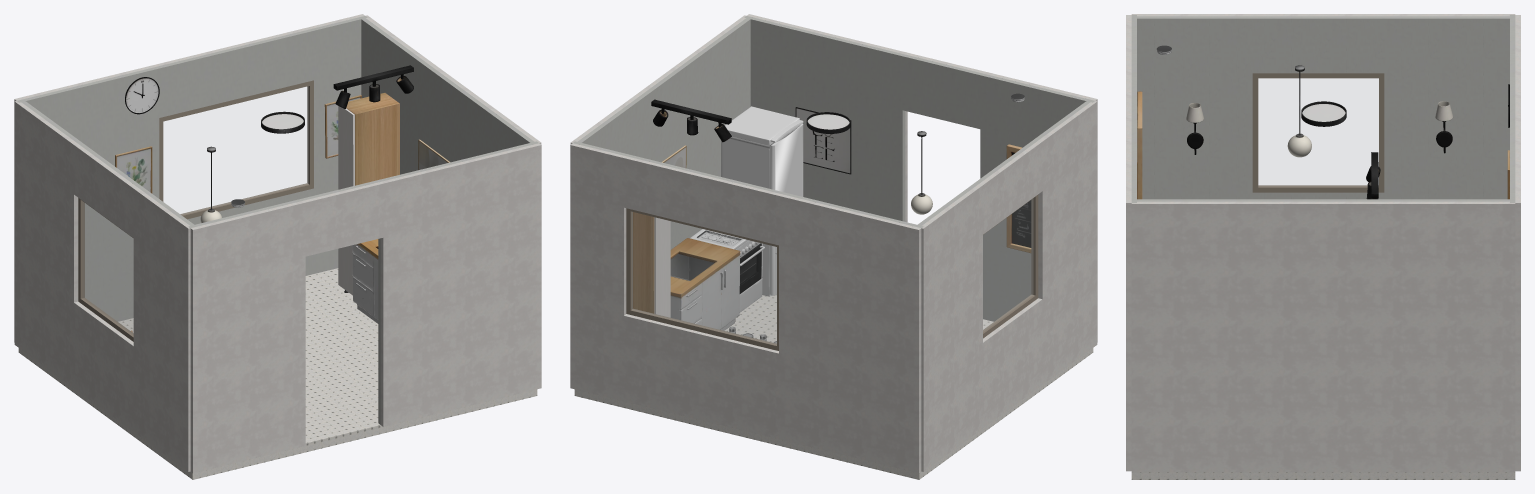
File: scene_web.glb
3 renders of one model, left to right at view 1: azimuth 30°, elevation 25°; view 2: azimuth 150°, elevation 25°; view 3: azimuth 270°, elevation 25°, orthographic. The views are drawn at different scales.
Parts seen in each view (by area): view 1: geometry_0.003, geometry_0.007, geometry_0, Mesh_0, glass, geometry_0.004, glass.001, P_6567ec5e91fe14f4.001, frame, P_a04d0b549ecd0f03.001, geometry_0.008, geometry_0.002 (+9 smaller); view 2: geometry_0.001, geometry_0.007, geometry_0.002, glass, geometry_0.004, geometry_0.008, Mesh_0, glass.001, P_b6ba9d91e0b8cca5.001, frame, P_6567ec5e91fe14f4.001, geometry_0.009 (+11 smaller); view 3: geometry_0.005, geometry_0.006, glass.001, frame.001, Mesh_0, geometry_0.001, geometry_0.003, geometry_0.007, geometry_0, geometry_0.002, geometry_0.004, geometry_0.022 (+5 smaller).
Boxes of the visible parts, <box> form: geometry_0.003: <box>190,143,541,473</box>; geometry_0.007: <box>14,101,190,471</box>; geometry_0: <box>17,16,367,321</box>; Mesh_0: <box>18,268,537,479</box>; glass: <box>163,86,308,214</box>; geometry_0.004: <box>361,18,534,174</box>; glass.001: <box>83,202,133,333</box>; P_6567ec5e91fe14f4.001: <box>346,93,399,185</box>; frame: <box>159,80,313,219</box>; P_a04d0b549ecd0f03.001: <box>338,106,354,295</box>; geometry_0.008: <box>352,239,378,323</box>; geometry_0.002: <box>188,141,538,424</box>; geometry_0.001: <box>570,143,921,473</box>; geometry_0.007: <box>921,101,1097,471</box>; geometry_0.002: <box>744,16,1094,321</box>; glass: <box>632,212,776,344</box>; geometry_0.004: <box>577,18,750,249</box>; geometry_0.008: <box>670,238,740,330</box>; Mesh_0: <box>574,294,1093,479</box>; glass.001: <box>983,199,1032,331</box>; P_b6ba9d91e0b8cca5.001: <box>721,106,803,296</box>; frame: <box>626,208,778,350</box>; P_6567ec5e91fe14f4.001: <box>633,212,654,313</box>; geometry_0.009: <box>690,229,764,312</box>; geometry_0.005: <box>1131,201,1515,472</box>; geometry_0.006: <box>1137,16,1509,199</box>; glass.001: <box>1258,78,1378,185</box>; frame.001: <box>1252,73,1384,192</box>; Mesh_0: <box>1131,472,1515,479</box>; geometry_0.001: <box>1515,15,1520,471</box>; geometry_0.003: <box>1126,15,1131,471</box>; geometry_0.007: <box>1131,14,1515,16</box>; geometry_0: <box>1510,15,1515,202</box>; geometry_0.002: <box>1131,15,1136,202</box>; geometry_0.004: <box>1137,199,1509,201</box>; geometry_0.022: <box>1301,101,1346,126</box>.
Size of the model in its own units: 4.1 by 2.8 by 3.6.
40 materials, 31 textured.
